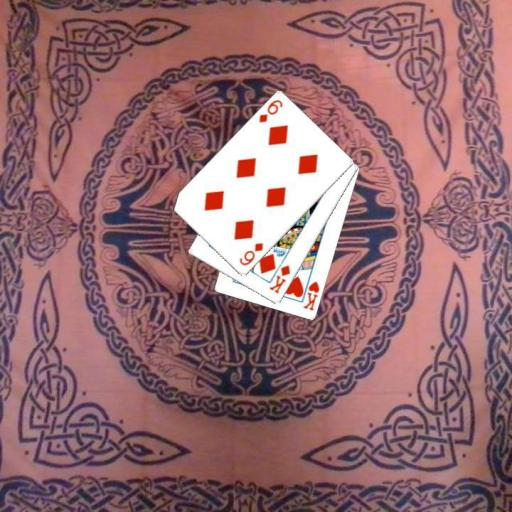6D: (236, 240, 265, 267), (255, 97, 284, 124)
KD: (266, 262, 292, 295)
KH: (300, 278, 321, 312)
